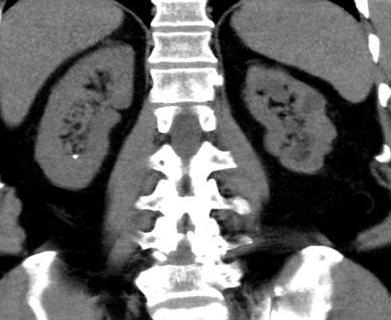Tas_Var: (72, 151, 79, 161)
